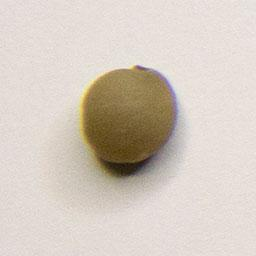peaberry: (78, 59, 181, 167)
